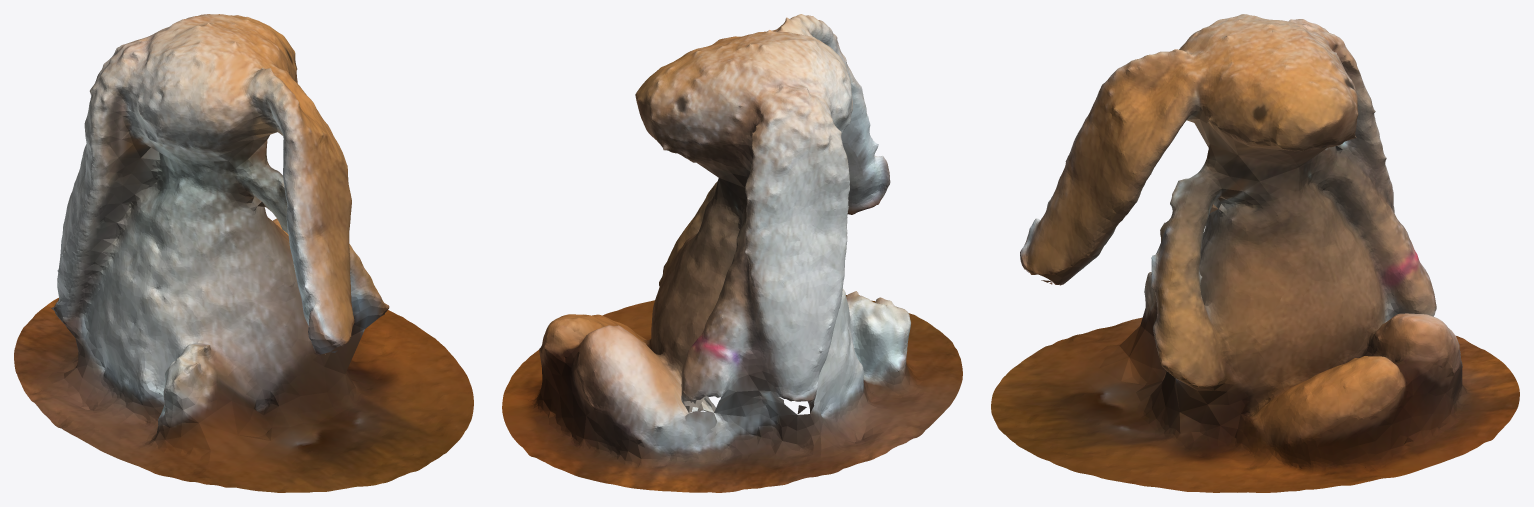
The model's file is bunny-3d-scan.obj.
3 renders of one model, left to right at view 1: azimuth 30°, elevation 25°; view 2: azimuth 150°, elevation 25°; view 3: azimuth 270°, elevation 25°, orthographic.
Parts seen in each view (by area): view 1: mesh; view 2: mesh; view 3: mesh.
Part boxes in pixels (x1,y1,x2,y2): mesh: (14, 14, 473, 492); mesh: (502, 14, 962, 492); mesh: (991, 14, 1519, 492).
Bounding box in the file's own units: 0.1448 × 0.135 × 0.1773.
1 material, 1 textured.
